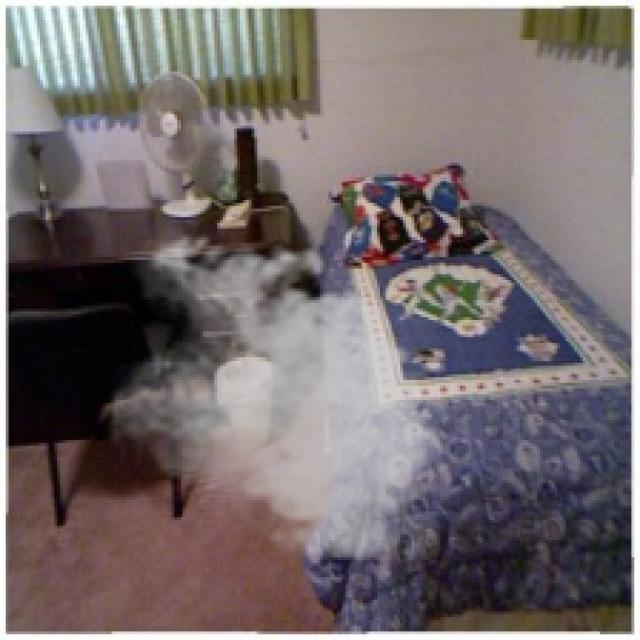Smoke: (109, 222, 458, 568)
